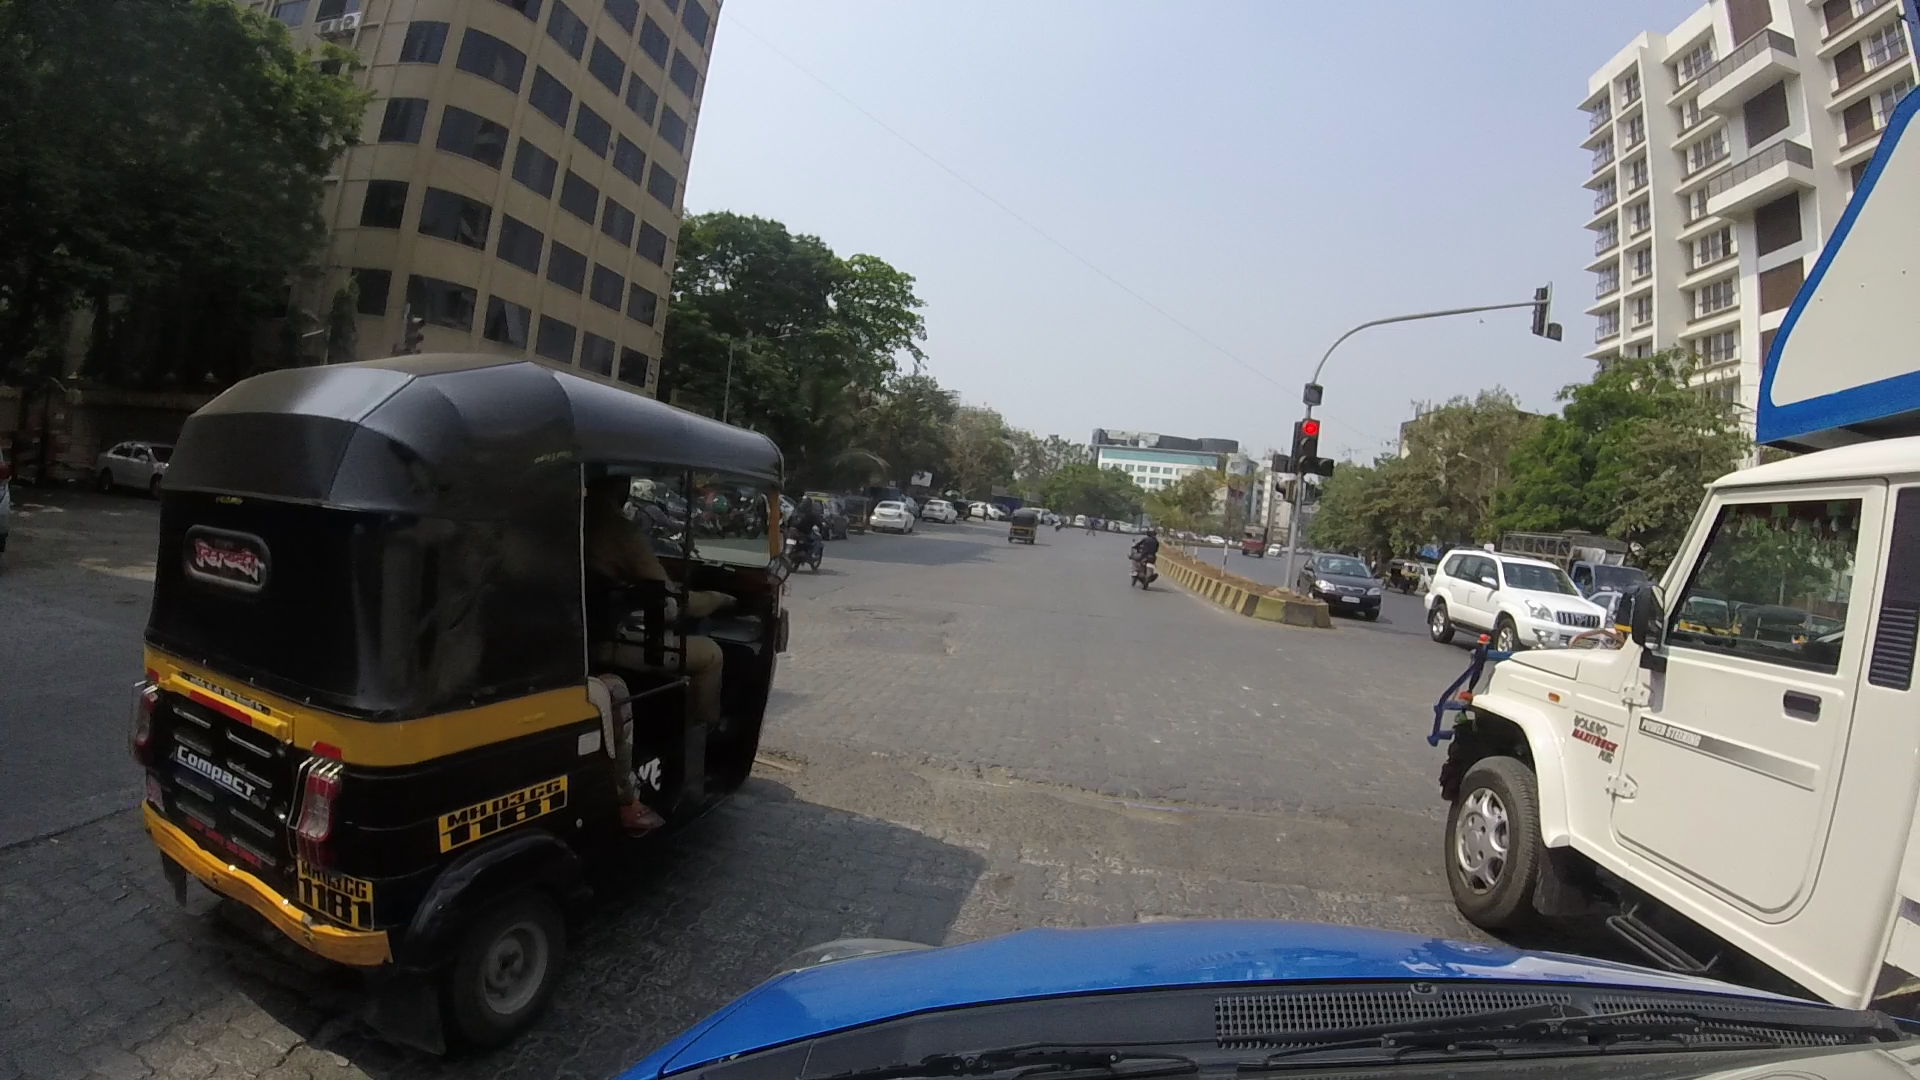bike/scooter: (1105, 520, 1168, 603), (783, 495, 832, 584)
car: (1422, 513, 1611, 678), (1294, 531, 1390, 632)
rickshaw: (95, 338, 836, 1013), (997, 498, 1054, 559)
truck: (1460, 84, 1920, 1004)
